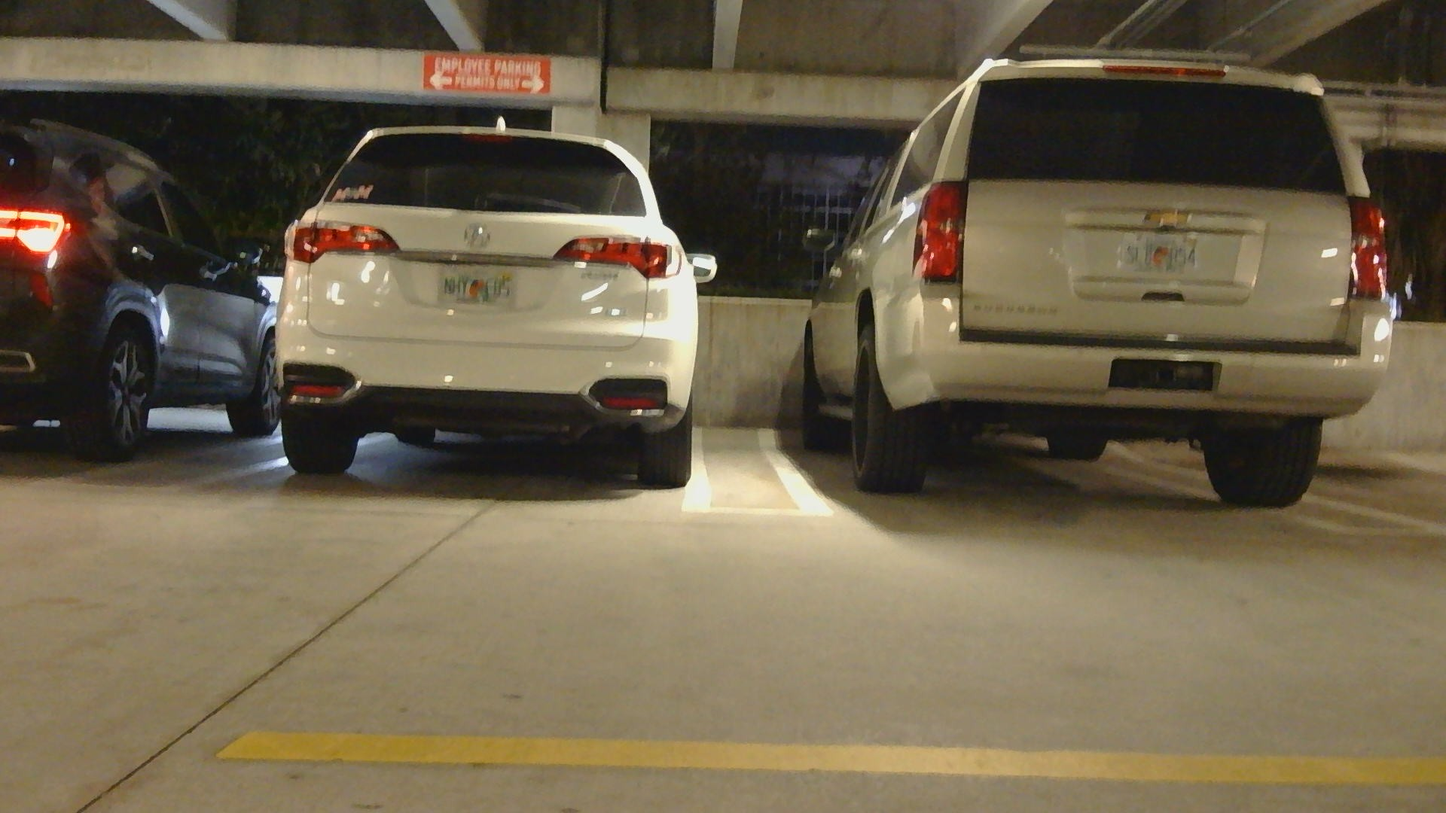empty_spot: (1346, 346, 1446, 496)
occupied_spot: (742, 50, 1410, 532), (161, 106, 747, 509), (1, 86, 279, 492)
